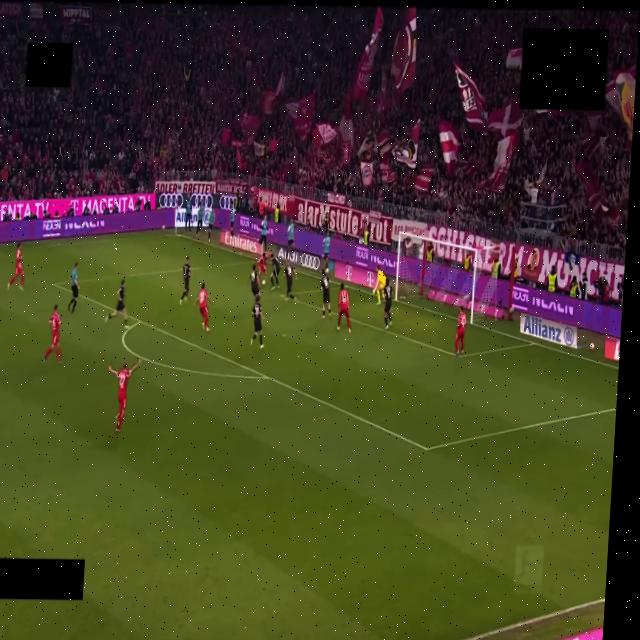ball: (262, 279, 265, 284)
player: (108, 360, 140, 432), (44, 305, 61, 363), (106, 280, 127, 326), (196, 283, 212, 331), (8, 242, 24, 290), (337, 283, 351, 332), (251, 295, 263, 348), (455, 308, 466, 355), (373, 266, 386, 304), (321, 269, 331, 318), (180, 257, 190, 305), (383, 278, 392, 329), (284, 262, 296, 300), (271, 253, 280, 290), (250, 265, 259, 296), (258, 252, 267, 282)
referee: (67, 262, 81, 313)
